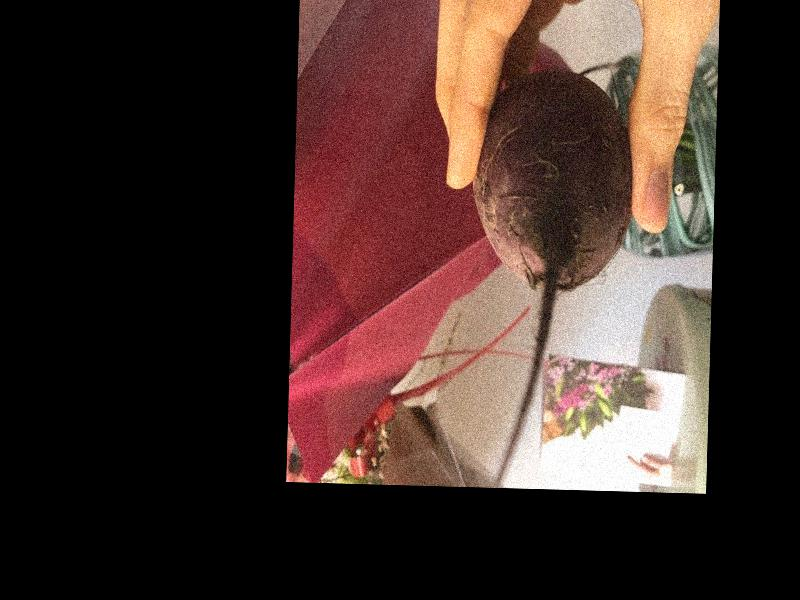Beet: (464, 62, 636, 491)
